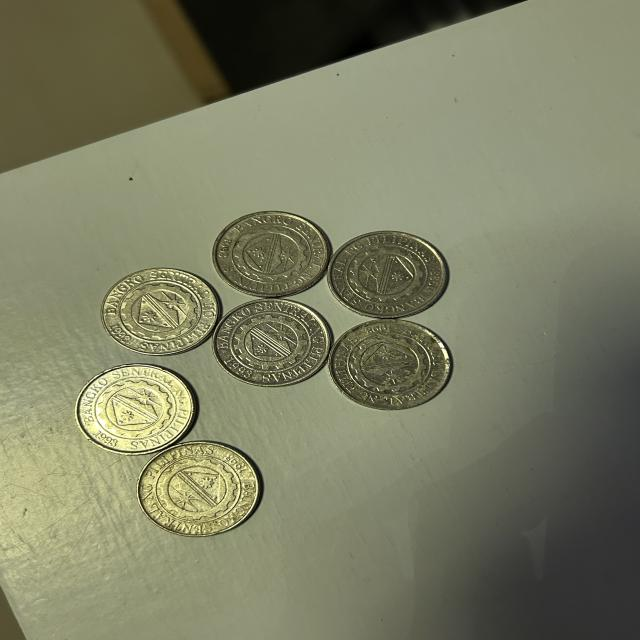1_Old_Back: (145, 455, 244, 528), (225, 314, 322, 375), (112, 280, 206, 340), (343, 242, 429, 307), (346, 333, 434, 396), (232, 224, 316, 283)
